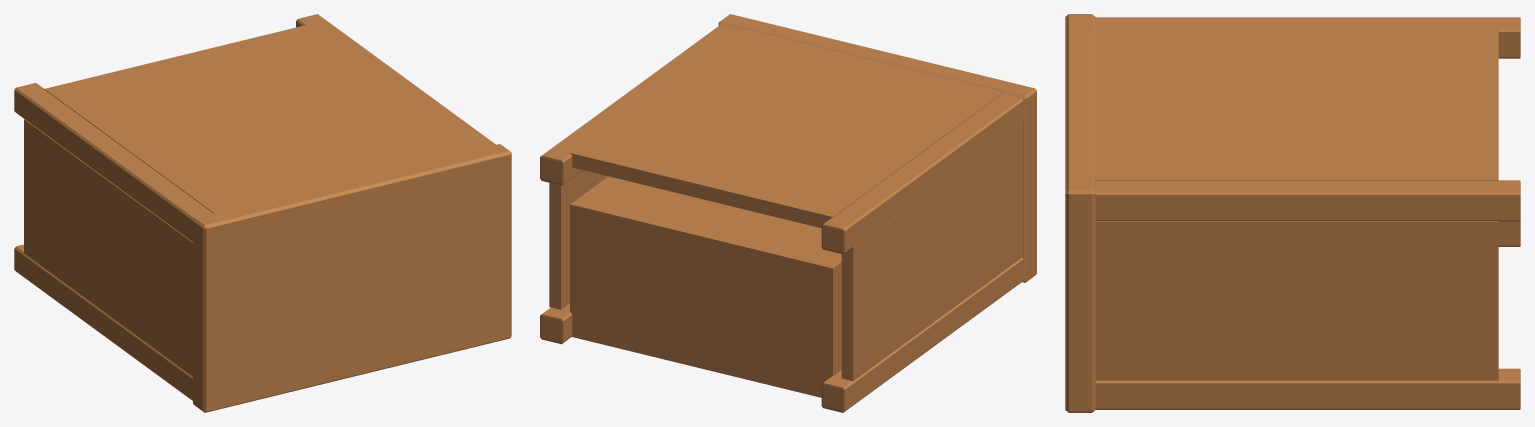
Rendered from DressermeshSideTable_302_1_0.obj.
3 views of the same model, side by side, from view 1: azimuth 30°, elevation 25°; view 2: azimuth 150°, elevation 25°; view 3: azimuth 270°, elevation 25° (orthographic). The views are drawn at different scales.
Parts seen in each view (by area): view 1: SideTable_302_1; view 2: SideTable_302_1; view 3: SideTable_302_1.
Boxes of the visible parts, box(x1,y1,x2,y2) form: SideTable_302_1: box(14, 14, 511, 412); SideTable_302_1: box(540, 14, 1036, 412); SideTable_302_1: box(1065, 14, 1520, 412).
Bounding box in the file's own units: 0.5583 × 0.3243 × 0.6013.
